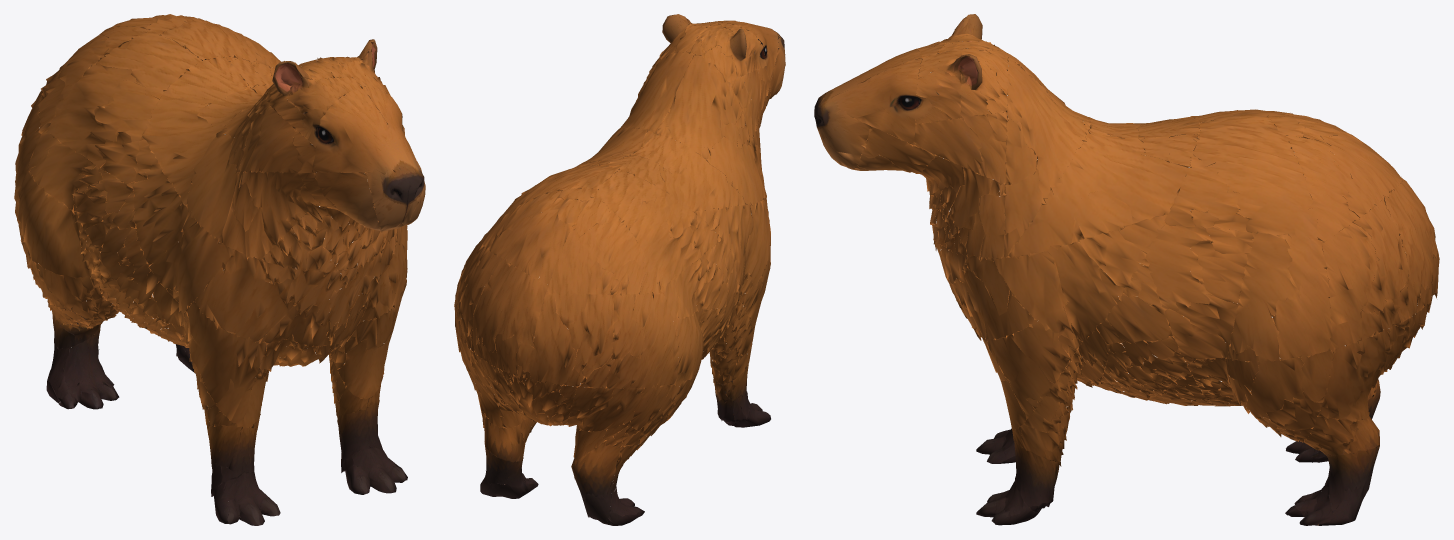
Rendered from capibara.glb.
The picture shows the model from 3 angles, left to right: view 1: azimuth 30°, elevation 25°; view 2: azimuth 150°, elevation 25°; view 3: azimuth 270°, elevation 25°; orthographic projection. The views are drawn at different scales.
Parts seen in each view (by area): view 1: Mesh_0; view 2: Mesh_0; view 3: Mesh_0.
Part boxes in pixels (box(x1,y1,x2,y2)): Mesh_0: box(14, 14, 425, 525); Mesh_0: box(454, 14, 785, 525); Mesh_0: box(814, 14, 1439, 525).
Size of the model in its own units: 0.321 by 0.5006 by 0.6328.
1 material, 1 textured.
